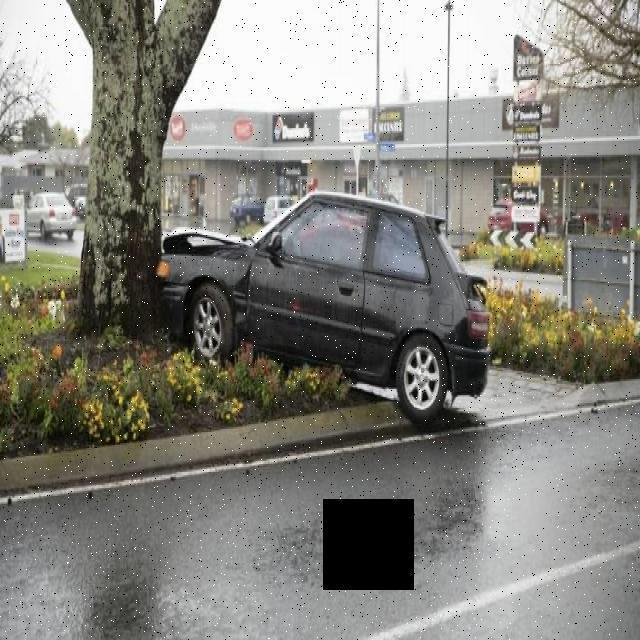accident: (79, 166, 502, 429)
